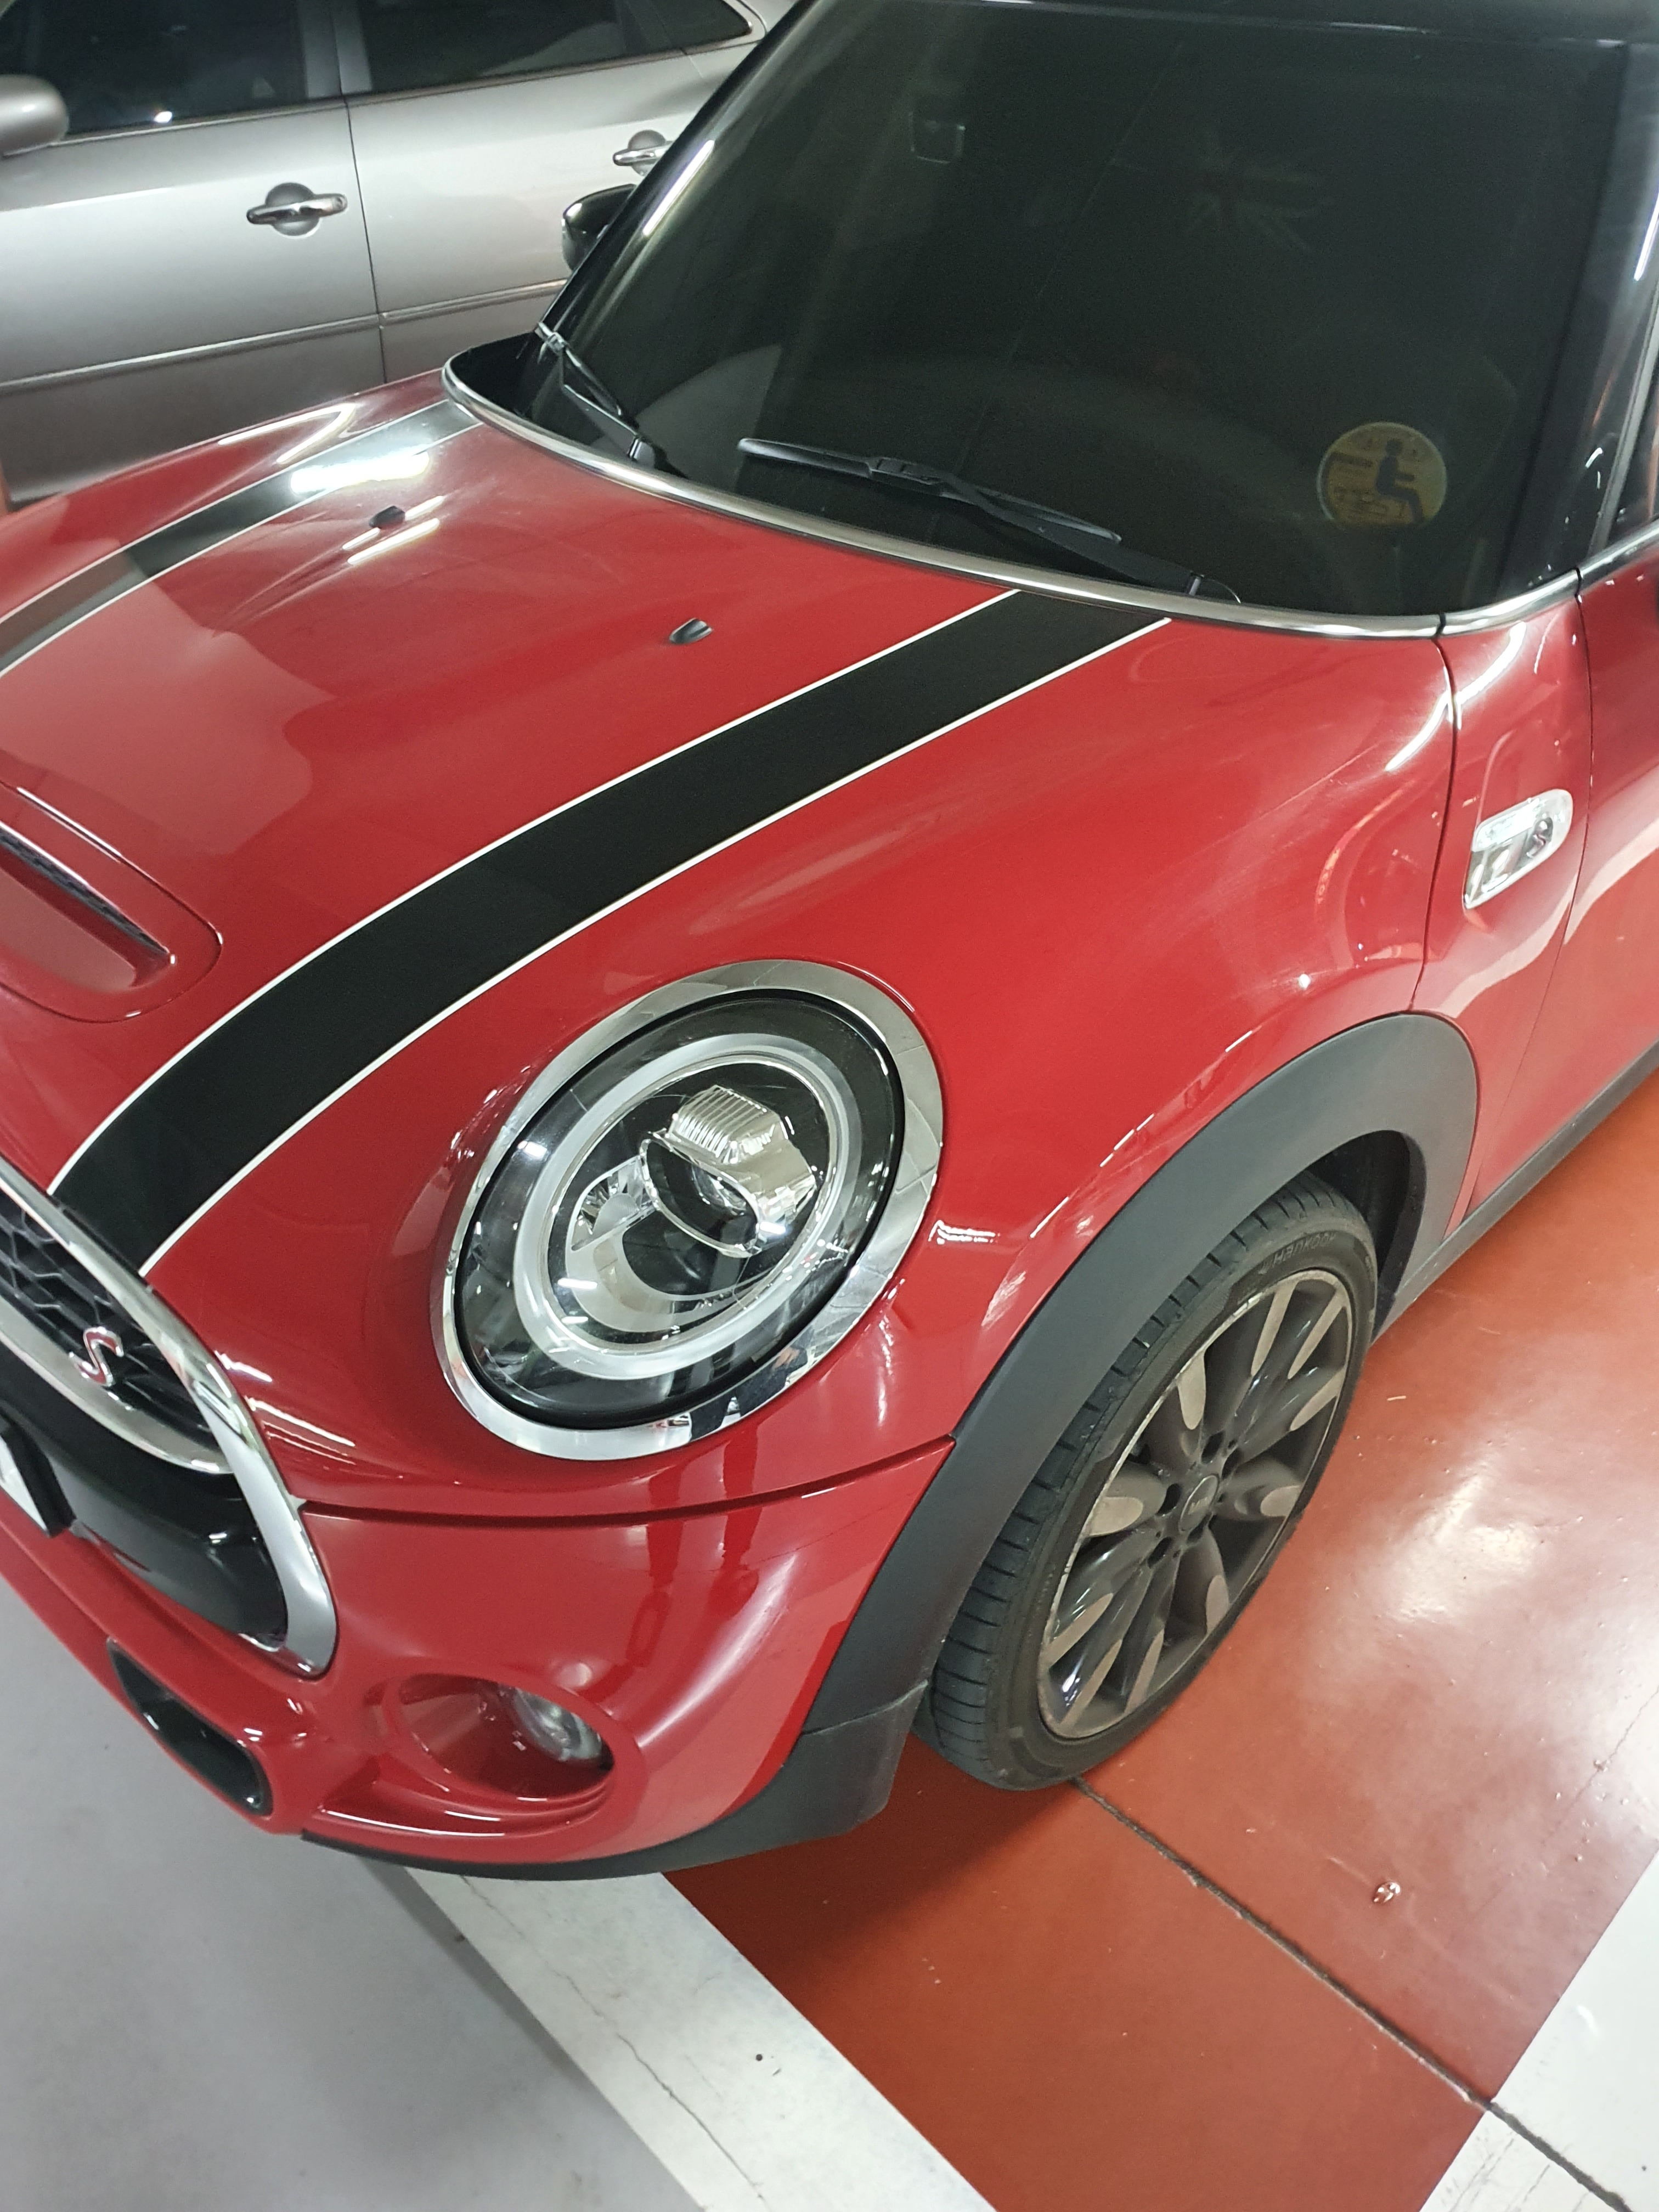disabled_parking: (1316, 415, 1455, 533)
